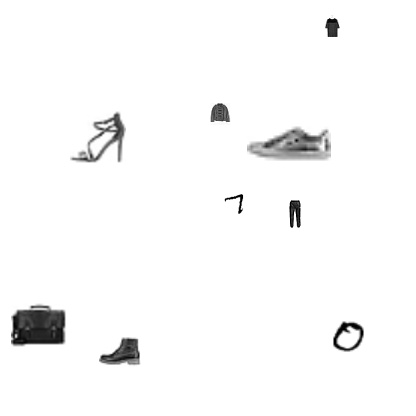0: (326, 314, 368, 356)
7: (223, 187, 251, 215)
Ankle_boot: (99, 330, 141, 372)
Bag: (11, 296, 67, 352)
Coat: (209, 103, 231, 125)
Dress: (321, 15, 343, 37)
Sandal: (70, 108, 126, 164)
Sneaker: (247, 100, 331, 184)
Trouser: (281, 200, 309, 228)
